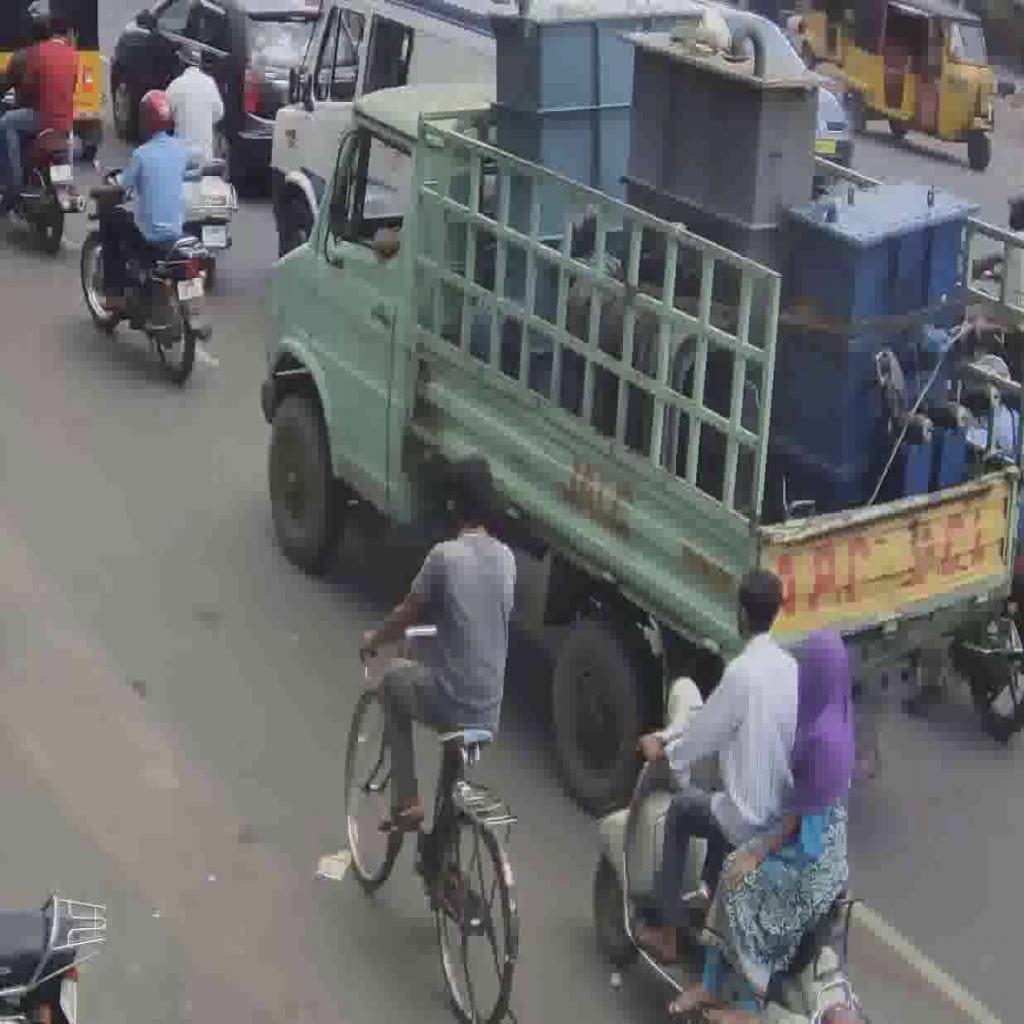helmet: (594, 676, 857, 1024), (82, 159, 210, 382), (2, 97, 84, 250), (50, 165, 72, 181)
